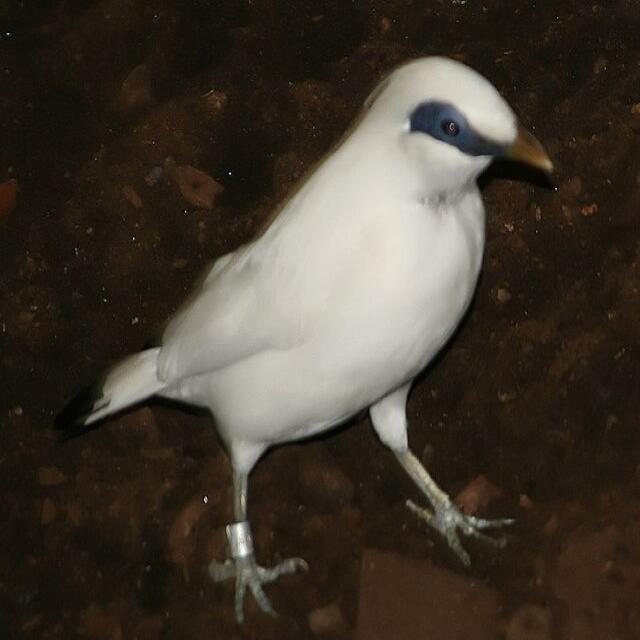Jalak Bali: (55, 10, 580, 640)
